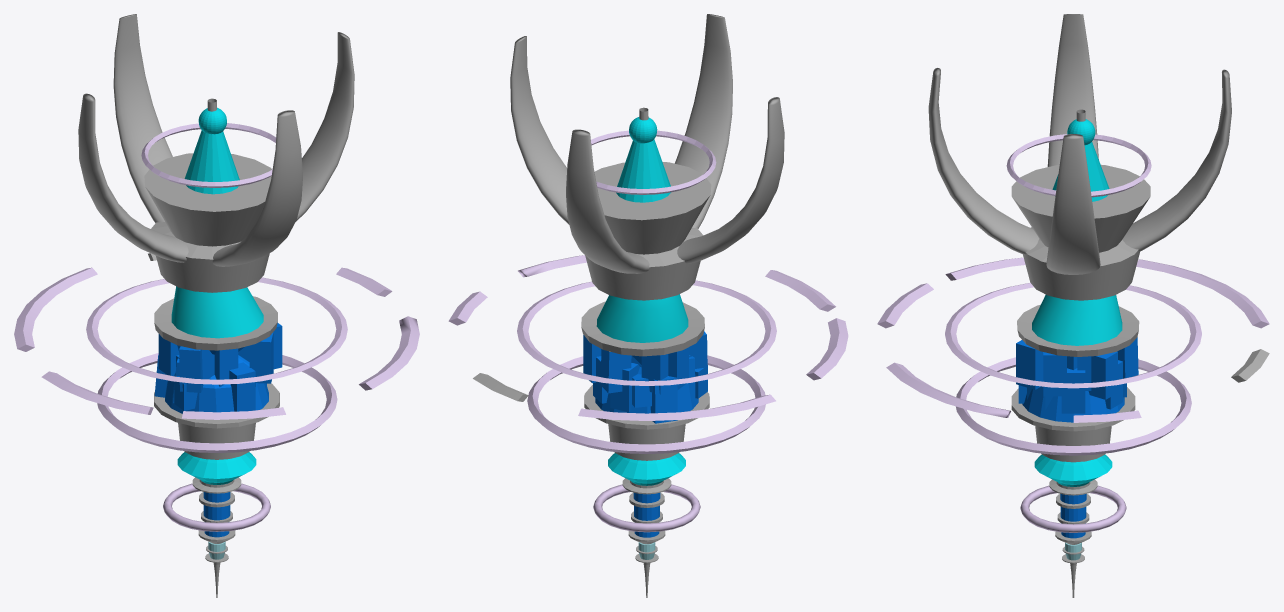
Rendered from SM_Building.fbx.
3 renders of one model, left to right at view 1: azimuth 30°, elevation 25°; view 2: azimuth 150°, elevation 25°; view 3: azimuth 270°, elevation 25°, orthographic.
Parts seen in each view (by area): view 1: ship2, ring6, ring7, ring8, ring2, ring, ring5, ring3, ring4, ring1; view 2: ship2, ring6, ring7, ring8, ring2, ring, ring3, ring4, ring5, ring1, ring9; view 3: ship2, ring6, ring7, ring8, ring2, ring, ring5, ring4, ring3, ring9, ring1.
Part boxes in pixels (left/top/right/bottom): ship2: left=78, top=14, right=354, bottom=597; ring6: left=97, top=353, right=337, bottom=452; ring7: left=86, top=277, right=347, bottom=384; ring8: left=163, top=483, right=270, bottom=531; ring2: left=14, top=267, right=97, bottom=351; ring: left=141, top=123, right=276, bottom=187; ring5: left=359, top=316, right=419, bottom=390; ring3: left=41, top=371, right=153, bottom=414; ring4: left=182, top=407, right=285, bottom=419; ring1: left=336, top=267, right=392, bottom=296; ship2: left=510, top=14, right=784, bottom=597; ring6: left=527, top=355, right=765, bottom=453; ring7: left=517, top=280, right=776, bottom=385; ring8: left=593, top=484, right=700, bottom=532; ring2: left=578, top=394, right=775, bottom=420; ring: left=591, top=130, right=716, bottom=194; ring3: left=806, top=318, right=848, bottom=380; ring4: left=765, top=270, right=835, bottom=311; ring5: left=518, top=255, right=586, bottom=277; ring1: left=448, top=291, right=487, bottom=325; ring9: left=473, top=373, right=528, bottom=401; ship2: left=928, top=14, right=1231, bottom=597; ring6: left=956, top=357, right=1191, bottom=455; ring7: left=945, top=282, right=1201, bottom=388; ring8: left=1020, top=485, right=1126, bottom=532; ring2: left=1136, top=259, right=1269, bottom=328; ring: left=1006, top=134, right=1151, bottom=197; ring5: left=886, top=362, right=1010, bottom=417; ring4: left=877, top=283, right=933, bottom=328; ring3: left=945, top=257, right=1025, bottom=280; ring9: left=1231, top=349, right=1269, bottom=382; ring1: left=1073, top=410, right=1141, bottom=422.
Size of the model in its own units: 12974 by 18904 by 12777.
